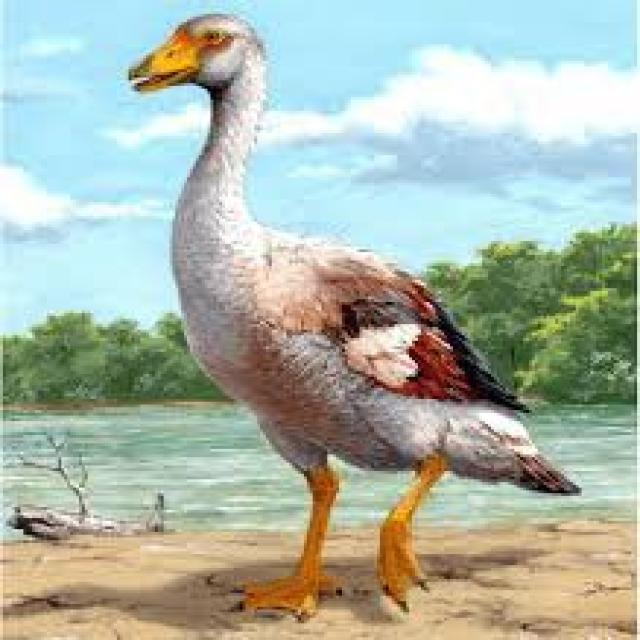Goose: (126, 9, 549, 602)
